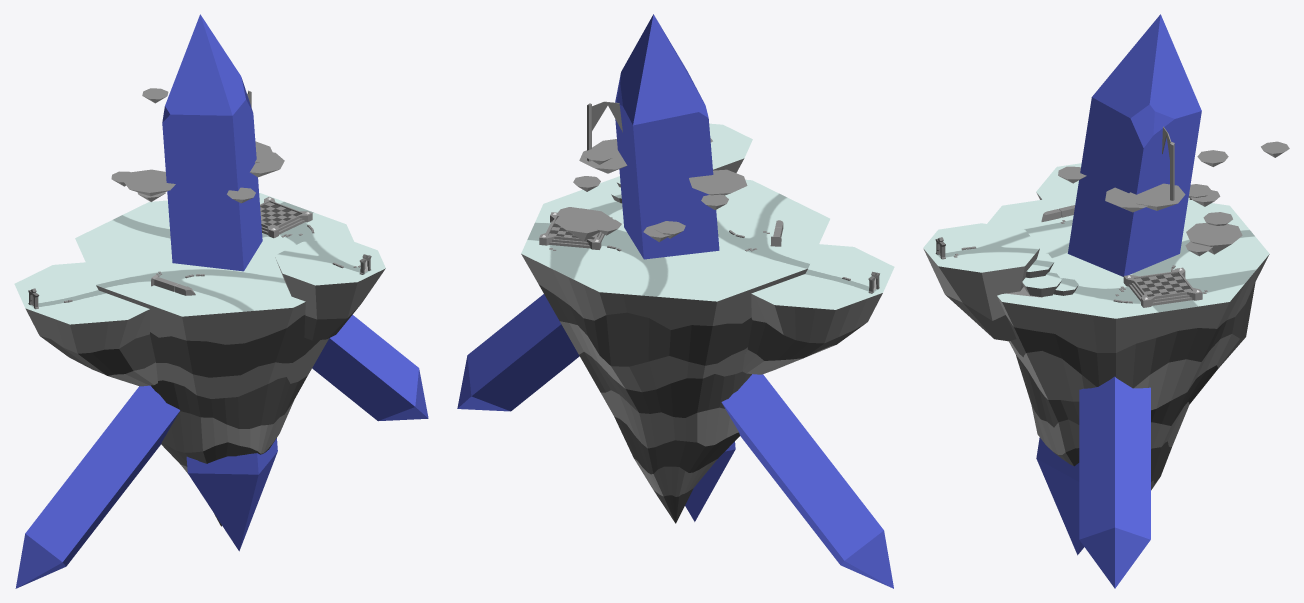
File: island5.fbx
3 renders of one model, left to right at view 1: azimuth 30°, elevation 25°; view 2: azimuth 150°, elevation 25°; view 3: azimuth 270°, elevation 25°, orthographic. The views are drawn at different scales.
Parts seen in each view (by area): view 1: island5_crystals, island5_rocks, island5_grass_road, island5_platforms, island5_puzzle_base; view 2: island5_crystals, island5_rocks, island5_grass_road, island5_platforms, island5_puzzle_base, island5_fachada; view 3: island5_crystals, island5_rocks, island5_grass_road, island5_platforms, island5_puzzle_base.
Part boxes in pixels (<box>): island5_crystals: <box>15,14,428,588</box>; island5_rocks: <box>25,257,385,526</box>; island5_grass_road: <box>14,193,385,324</box>; island5_platforms: <box>111,88,284,203</box>; island5_puzzle_base: <box>260,197,312,238</box>; island5_crystals: <box>457,14,893,588</box>; island5_rocks: <box>521,158,882,523</box>; island5_grass_road: <box>521,123,894,309</box>; island5_platforms: <box>554,138,747,242</box>; island5_puzzle_base: <box>539,212,612,249</box>; island5_fachada: <box>587,101,622,161</box>; island5_crystals: <box>1036,14,1201,588</box>; island5_rocks: <box>923,192,1269,490</box>; island5_grass_road: <box>923,163,1269,318</box>; island5_platforms: <box>1058,141,1289,256</box>; island5_puzzle_base: <box>1123,267,1202,307</box>.
Size of what is drawn, in the model's own units: 10820 by 12744 by 7824.
